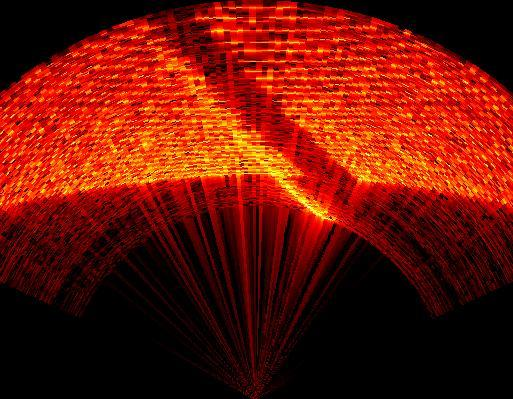pipe: (147, 6, 361, 209)
